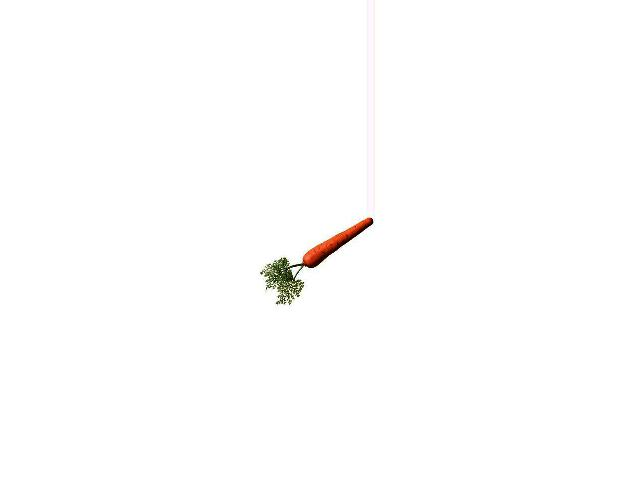carrot: (295, 215, 376, 270)
